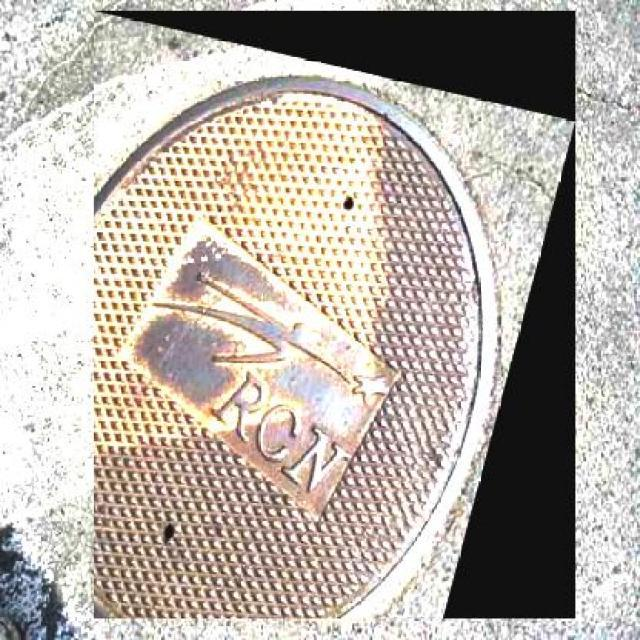Manhole: (94, 11, 576, 618)
